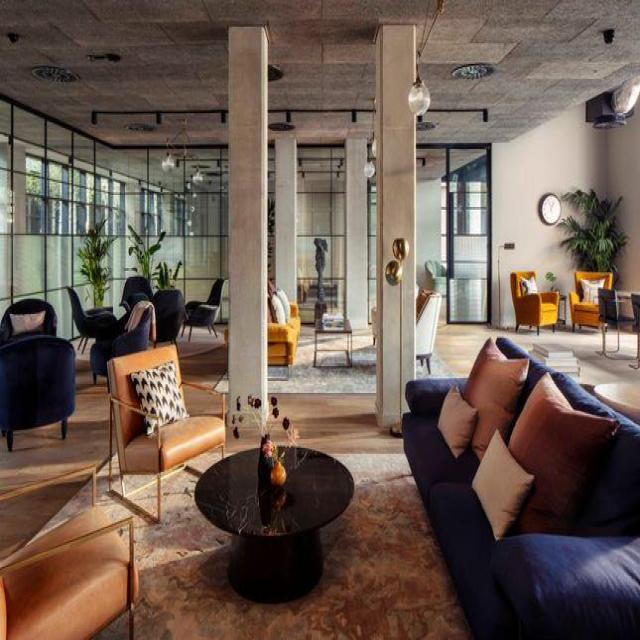Wall: (135, 326, 470, 639), (0, 0, 640, 145), (493, 101, 640, 326), (0, 351, 127, 518), (376, 24, 415, 427), (229, 26, 268, 404), (0, 482, 90, 556), (540, 330, 640, 385), (433, 323, 536, 376), (346, 135, 366, 328), (275, 135, 296, 299), (179, 330, 227, 385), (185, 391, 221, 414), (191, 452, 220, 470), (134, 487, 154, 511), (126, 478, 152, 490), (609, 332, 615, 348)
